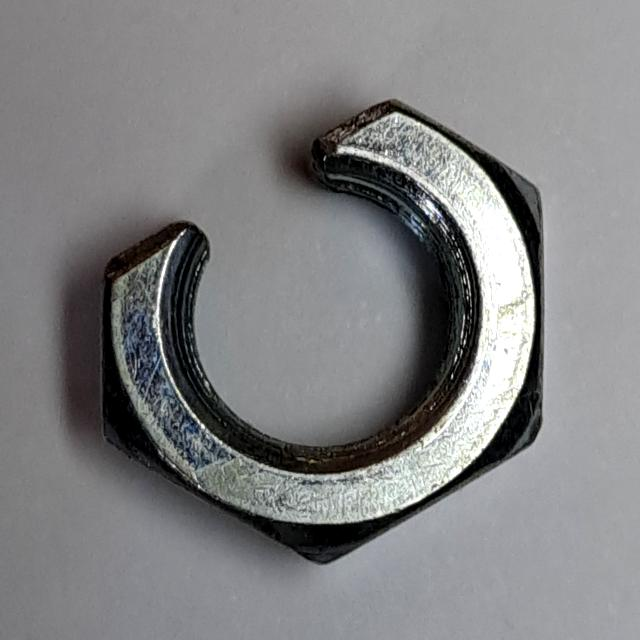Fracture: (85, 89, 556, 573)
